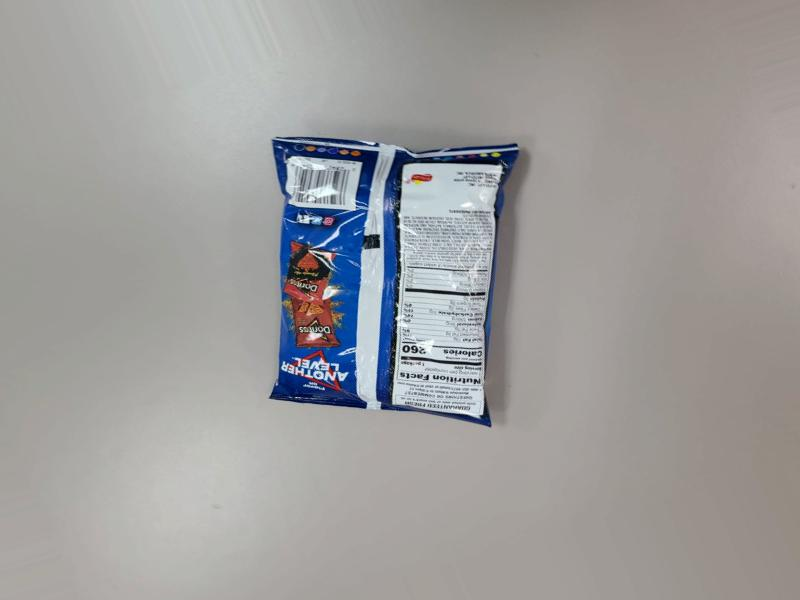doritos: (245, 143, 523, 432)
